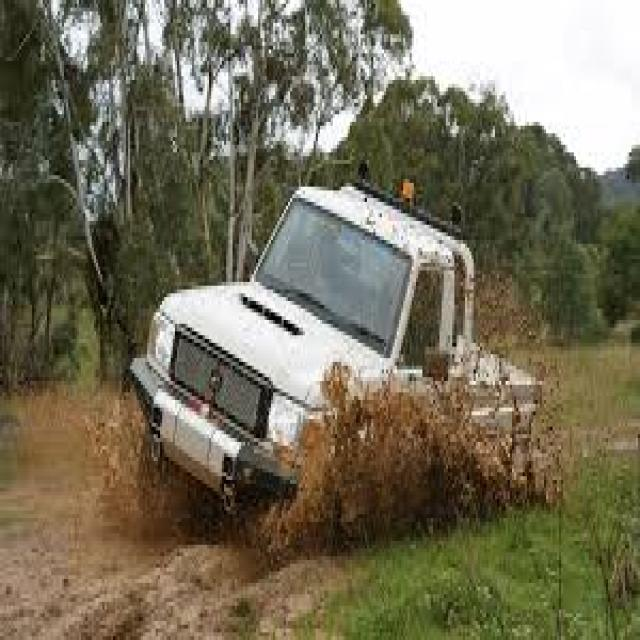light_vehicle: (126, 164, 576, 533)
